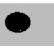correct: (4, 11, 32, 33)
